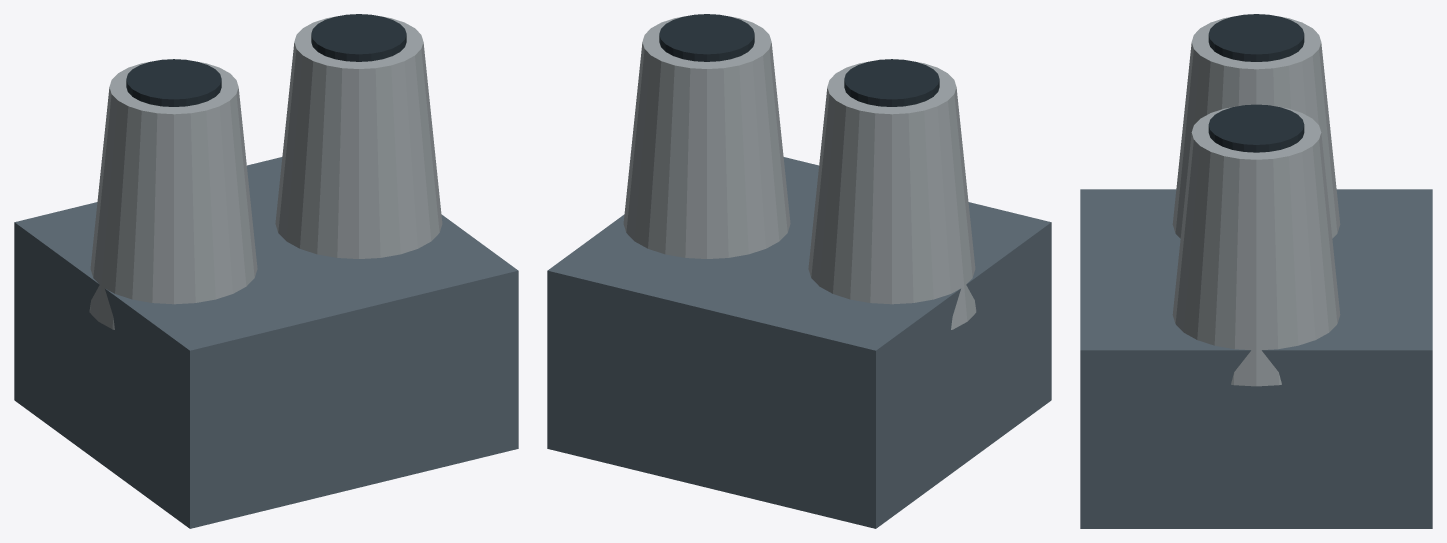
The model's file is nuclear-power.glb.
3 views of the same model, side by side, from view 1: azimuth 30°, elevation 25°; view 2: azimuth 150°, elevation 25°; view 3: azimuth 270°, elevation 25° (orthographic).
Visible parts, largest first — view 1: reactor hall, cooling tower, cooling tower.001, tower opening, tower opening.001; view 2: reactor hall, cooling tower, cooling tower.001, tower opening, tower opening.001; view 3: reactor hall, cooling tower.001, cooling tower, tower opening, tower opening.001.
Boxes of the visible parts, box(x1,y1,x2,y2) form: reactor hall: box(14, 157, 518, 528); cooling tower: box(89, 62, 257, 329); cooling tower.001: box(275, 17, 442, 258); tower opening: box(126, 59, 221, 106); tower opening.001: box(311, 14, 406, 61); reactor hall: box(547, 157, 1051, 528); cooling tower: box(808, 62, 976, 329); cooling tower.001: box(623, 17, 790, 258); tower opening: box(844, 59, 939, 106); tower opening.001: box(659, 14, 754, 61); reactor hall: box(1080, 189, 1432, 528); cooling tower.001: box(1172, 107, 1340, 386); cooling tower: box(1172, 17, 1340, 238); tower opening: box(1208, 14, 1304, 61); tower opening.001: box(1208, 104, 1304, 152).
Bounding box in the file's own units: 1.38 × 1.44 × 1.25.
